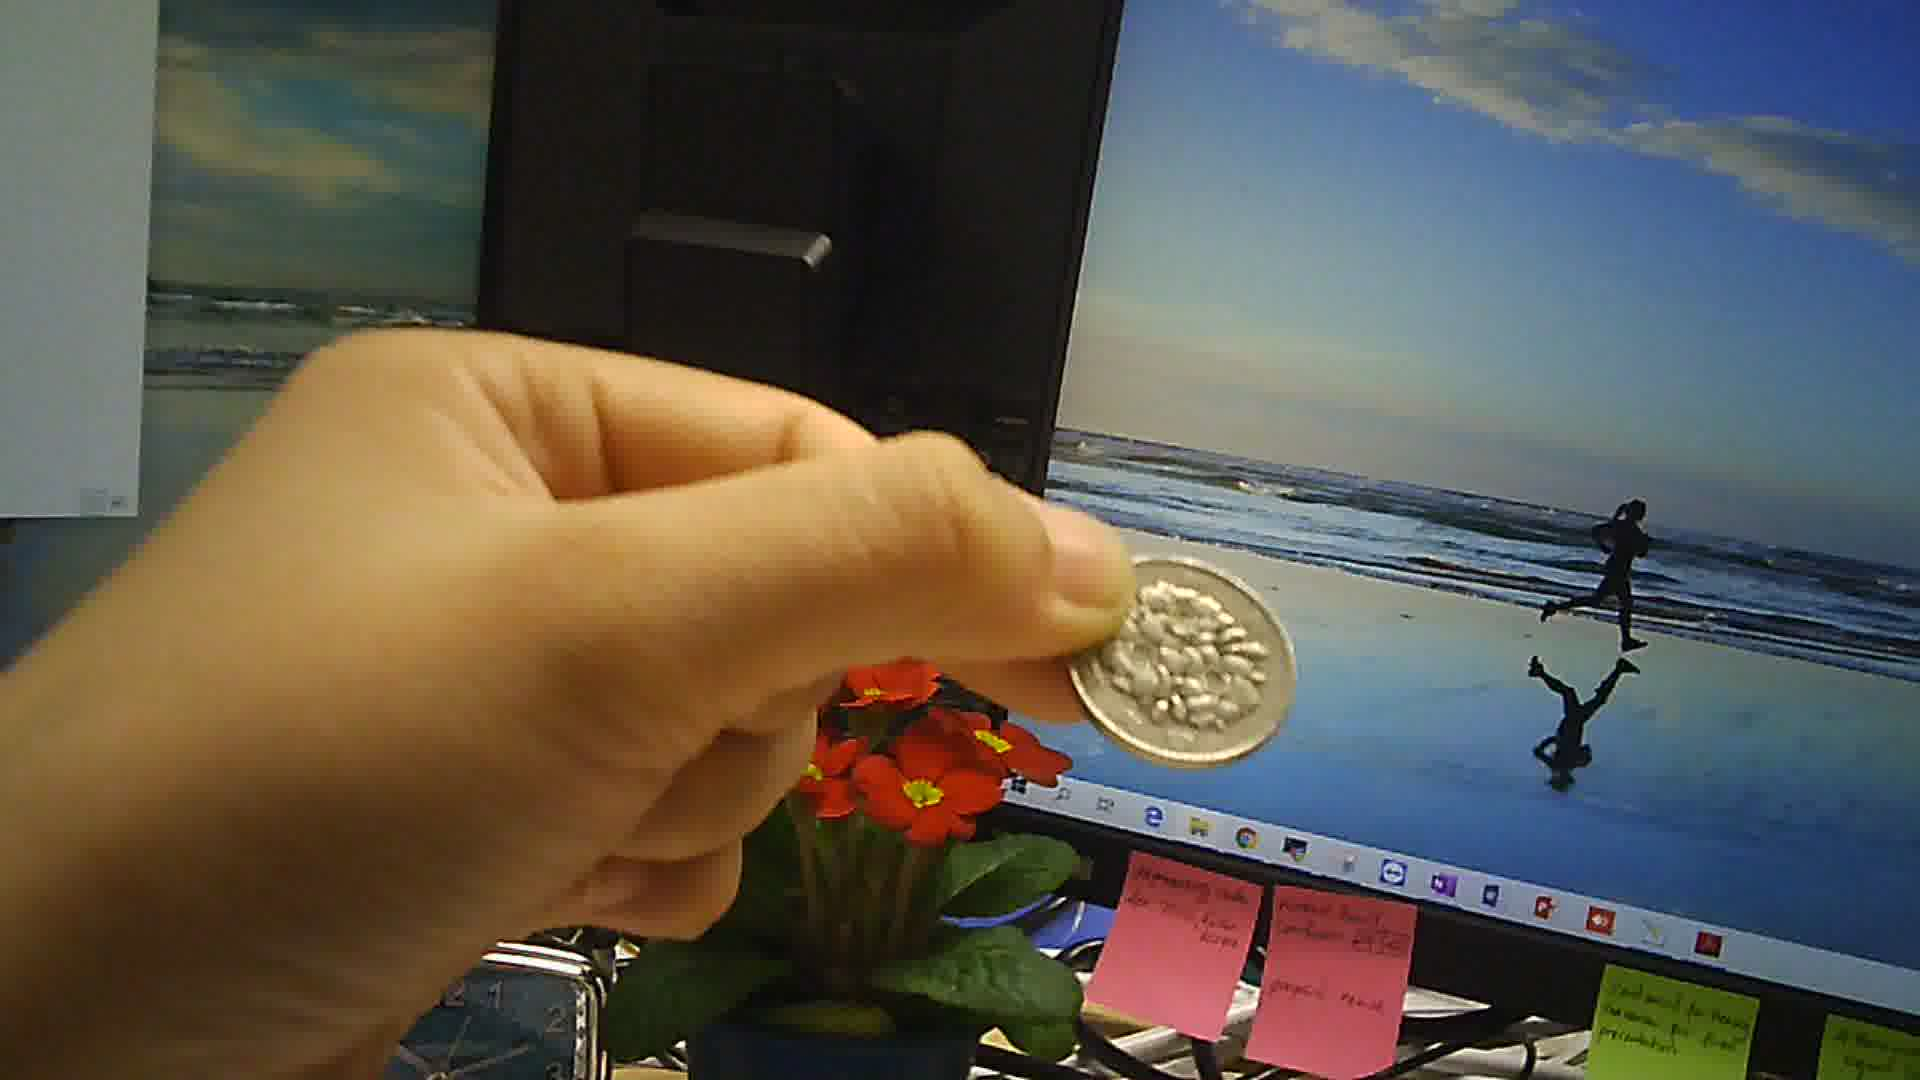100 Yen: (1060, 545, 1309, 781)
